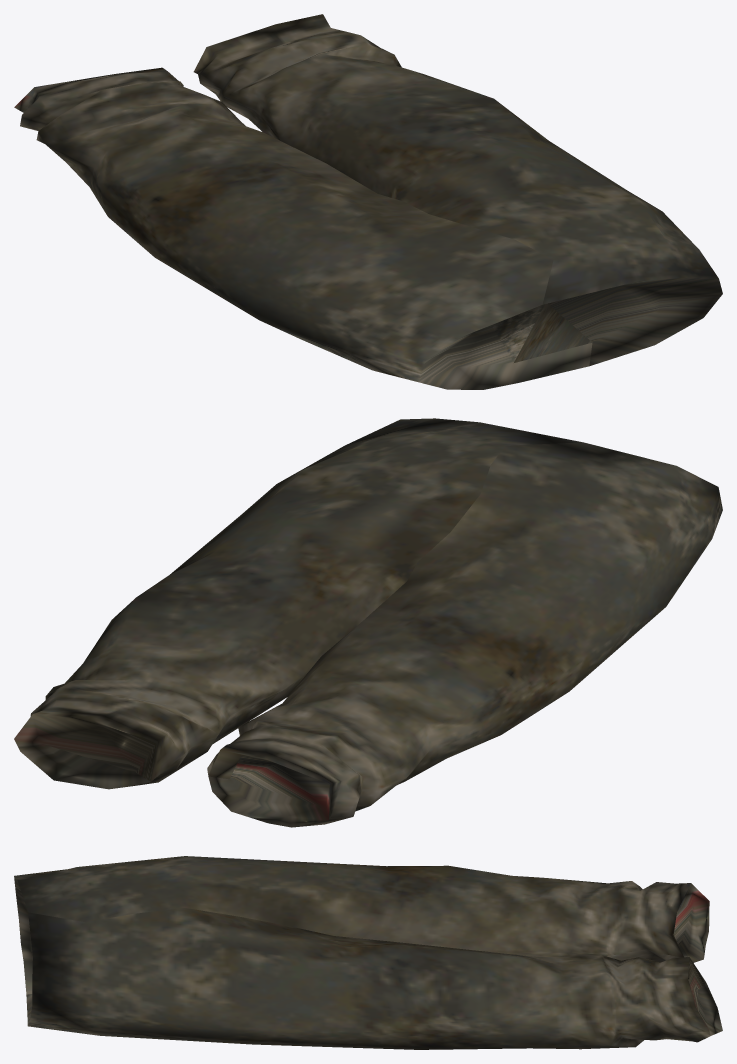
Rendered from FireBreathersPants_Ground.fbx.
The picture shows the model from 3 angles, top to bottom: view 1: azimuth 30°, elevation 25°; view 2: azimuth 150°, elevation 25°; view 3: azimuth 270°, elevation 25°; orthographic projection. The views are drawn at different scales.
Parts seen in each view (by area): view 1: Pants; view 2: Pants; view 3: Pants.
Boxes of the visible parts, box(x1,y1,x2,y2) form: Pants: box(14, 14, 722, 389); Pants: box(14, 418, 722, 827); Pants: box(14, 856, 722, 1049).
Bounding box in the file's own units: 0.211 × 0.0494 × 0.3723.
